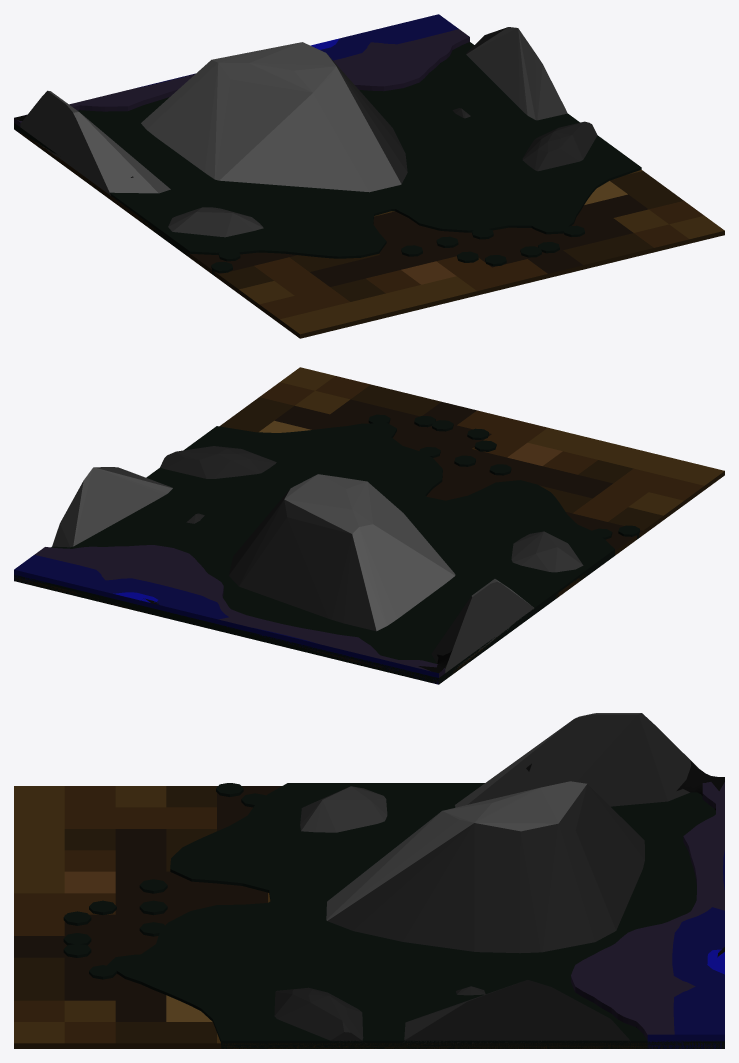
File: newshe-41-f2.glb
3 renders of one model, top to bottom at view 1: azimuth 30°, elevation 25°; view 2: azimuth 150°, elevation 25°; view 3: azimuth 270°, elevation 25°, orthographic. The views are drawn at different scales.
Parts seen in each view (by area): view 1: newshe-41; view 2: newshe-41; view 3: newshe-41, newshe-41_outline.
Part boxes in pixels (<box>): newshe-41: <box>14,14,724,338</box>; newshe-41: <box>14,367,724,684</box>; newshe-41: <box>14,713,724,1048</box>; newshe-41_outline: <box>526,760,724,1027</box>.
Bounding box in the file's own units: 2 × 0.3724 × 2.33.
